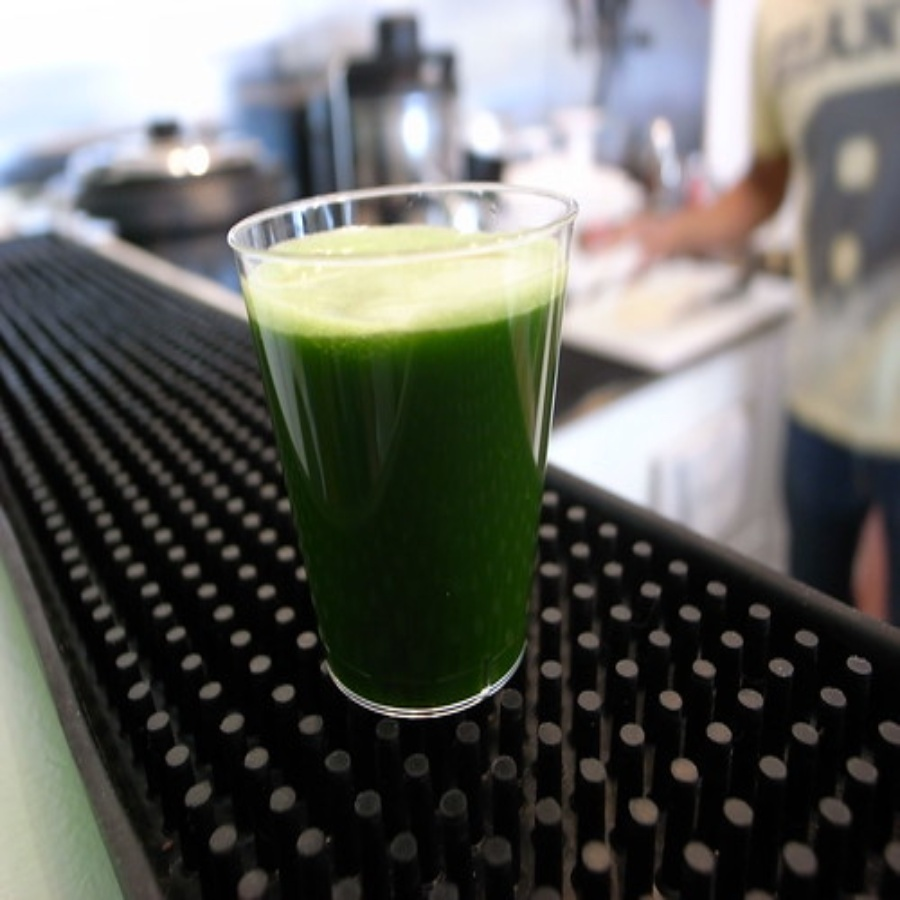whiskey: (238, 180, 582, 740)
